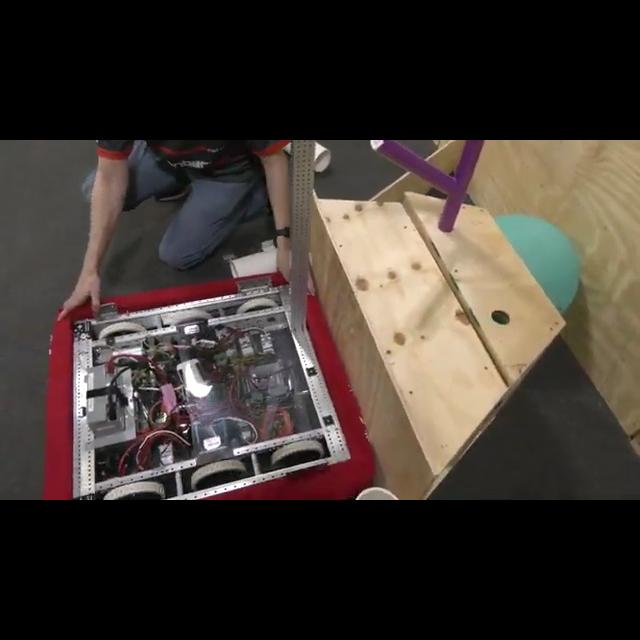CORAL: (230, 247, 296, 280)
